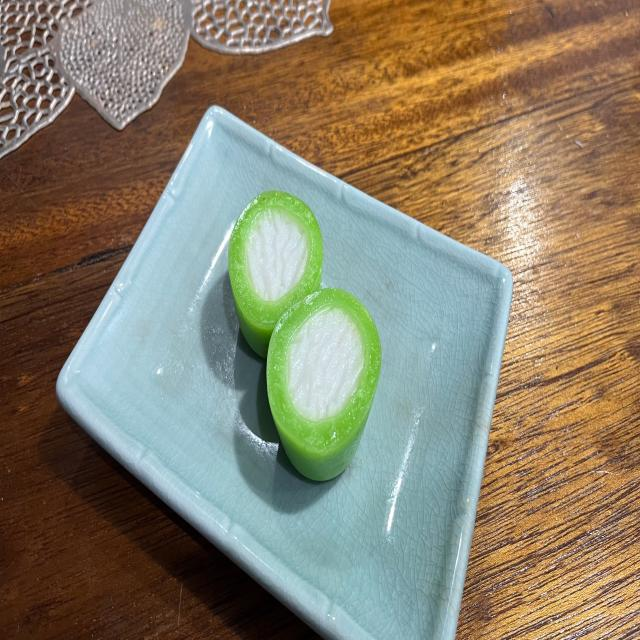nona-manis: (266, 289, 381, 480), (229, 191, 322, 358)
